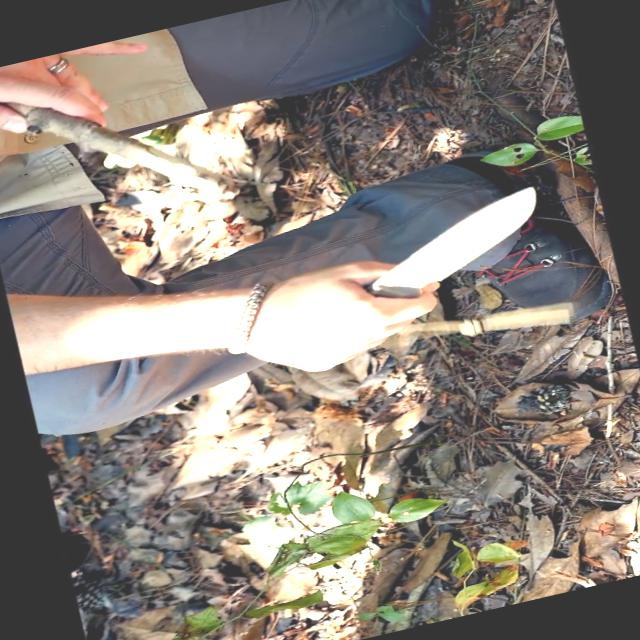knife: (306, 174, 574, 361)
